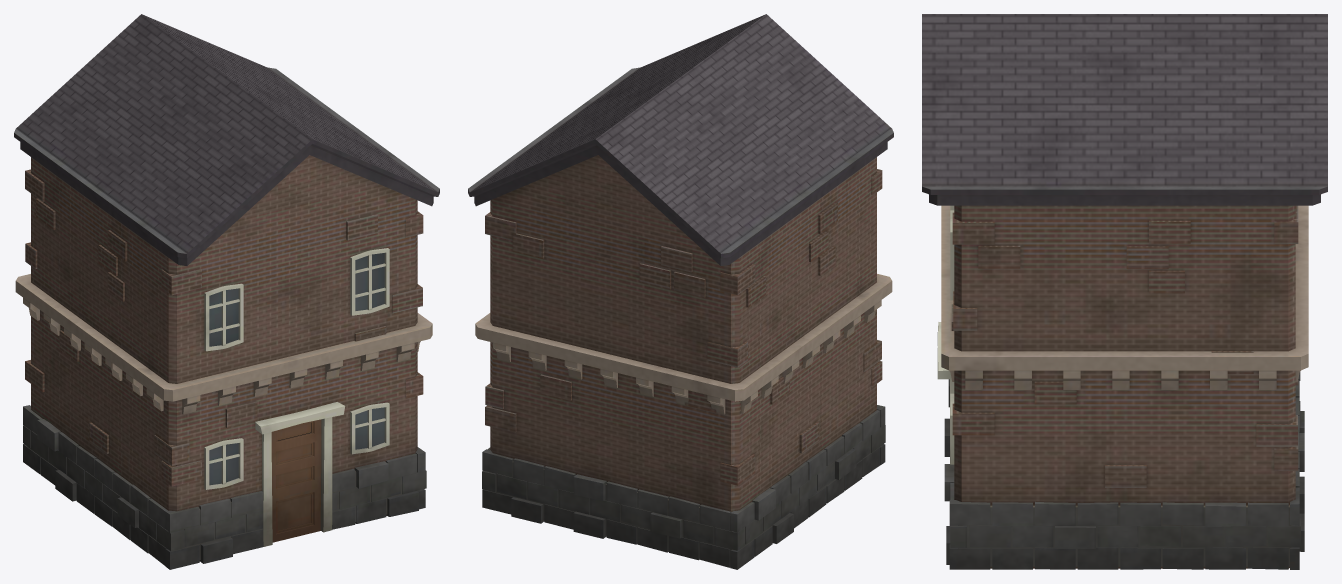
Rendered from 2Story_GableRoof.glb.
3 views of the same model, side by side, from view 1: azimuth 30°, elevation 25°; view 2: azimuth 150°, elevation 25°; view 3: azimuth 270°, elevation 25° (orthographic). The views are drawn at different scales.
Parts seen in each view (by area): view 1: 2Story_GableRoof_medium; view 2: 2Story_GableRoof_medium; view 3: 2Story_GableRoof_medium.
Boxes of the visible parts, x1,y1,x2,y2 form: 2Story_GableRoof_medium: (14,14,439,569); 2Story_GableRoof_medium: (468,14,893,569); 2Story_GableRoof_medium: (922,14,1327,569).
Bounding box in the file's own units: 2.16 × 3.13 × 2.38.
2 materials, 2 textured.
